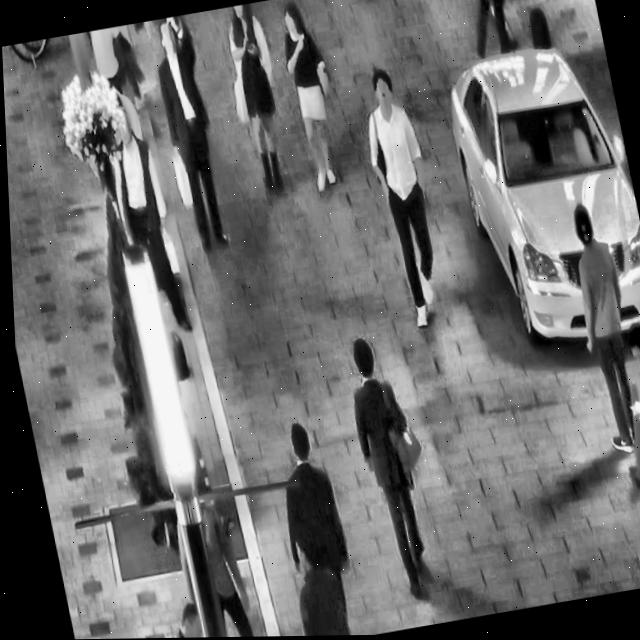light_vehicle: (429, 20, 640, 368)
